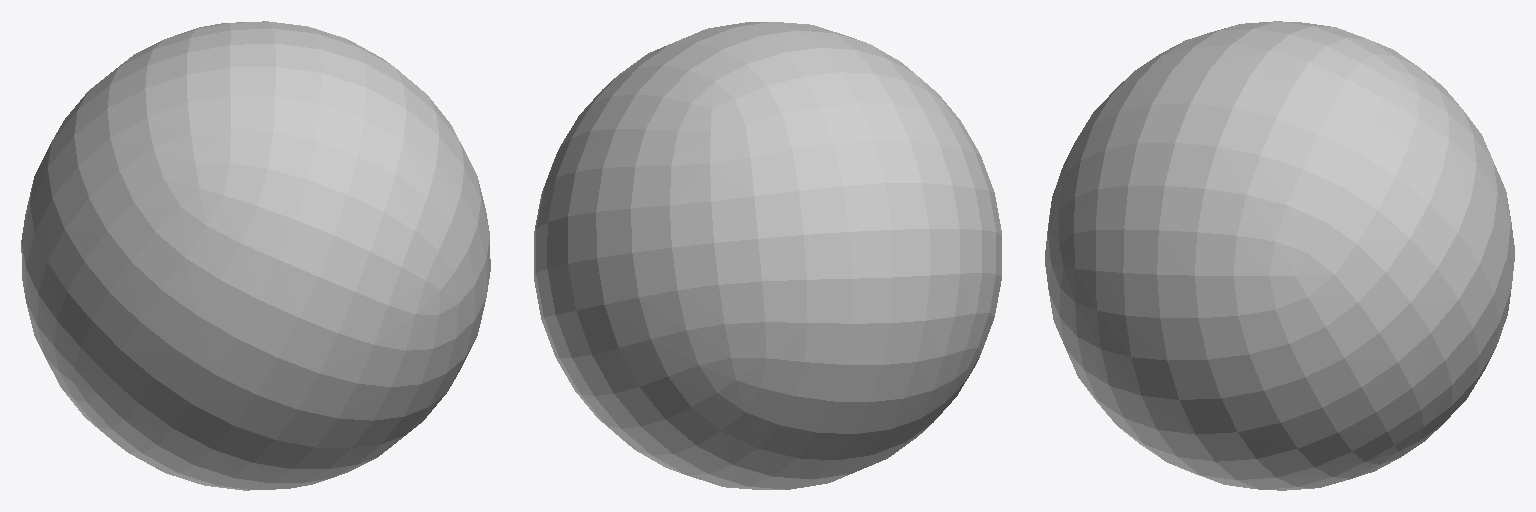
File: Mars_2K.obj
3 renders of one model, left to right at view 1: azimuth 30°, elevation 25°; view 2: azimuth 150°, elevation 25°; view 3: azimuth 270°, elevation 25°, orthographic.
Visible parts, largest first — view 1: Atmosphere_Cube.010; view 2: Atmosphere_Cube.010; view 3: Atmosphere_Cube.010.
Boxes of the visible parts, box(x1,y1,x2,y2) form: Atmosphere_Cube.010: box(21, 21, 490, 490); Atmosphere_Cube.010: box(534, 22, 1001, 489); Atmosphere_Cube.010: box(1045, 21, 1514, 490).
Size of the model in its own units: 6.77 by 6.77 by 6.79.